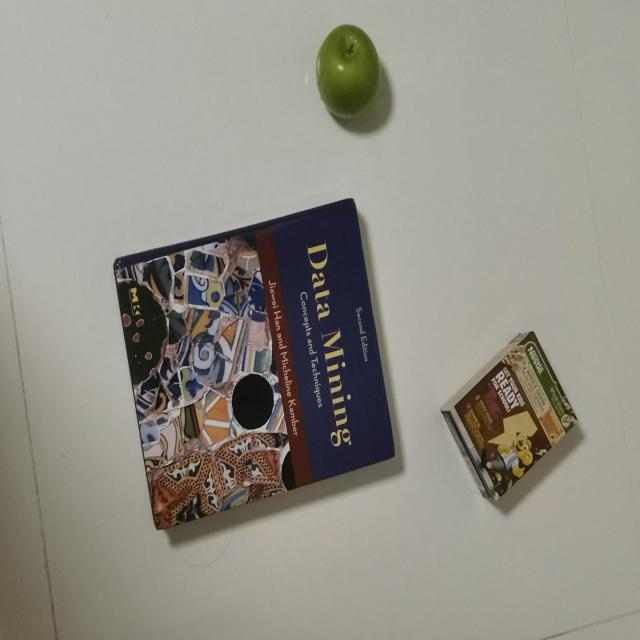Apple: (315, 20, 388, 119)
Book: (98, 195, 406, 538)
Cerealbox: (438, 327, 580, 520)
